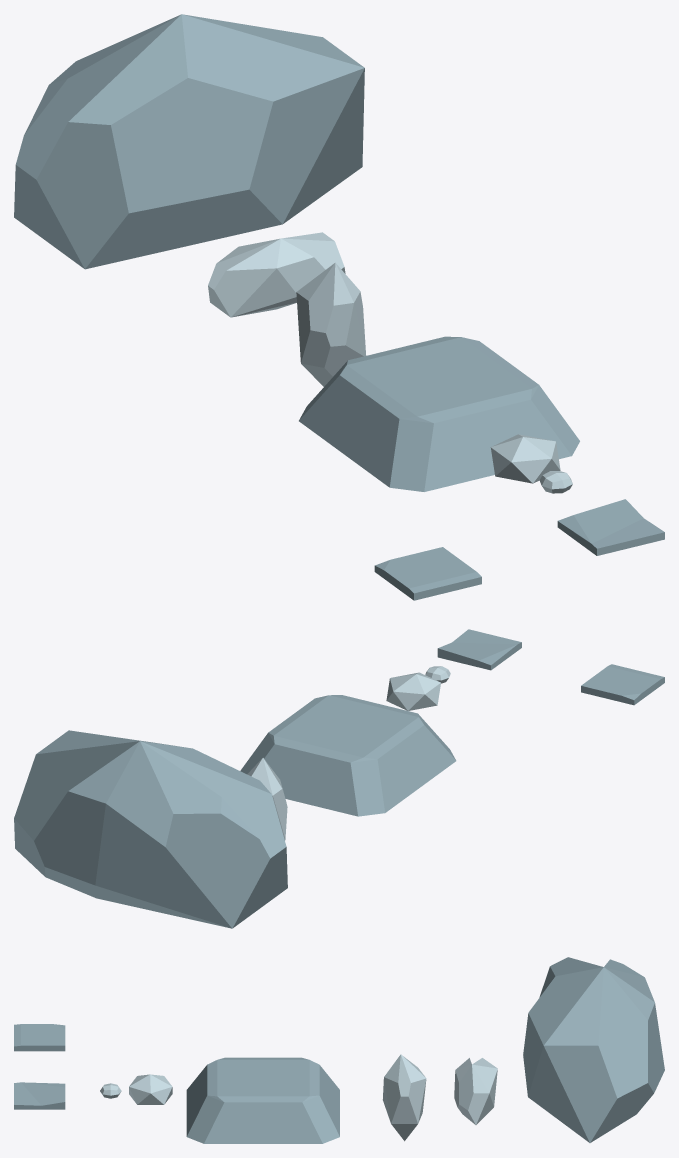
Rendered from rocks.fbx.
3 views of the same model, one above another, from view 1: azimuth 30°, elevation 25°; view 2: azimuth 150°, elevation 25°; view 3: azimuth 270°, elevation 25° (orthographic). The views are drawn at different scales.
Parts seen in each view (by area): view 1: Icosphere.003, Cube.001, Icosphere.002, Icosphere.001, Cube.004, Cube.003, Icosphere; view 2: Icosphere.003, Cube.001, Cube.003, Cube.004, Icosphere, Icosphere.001; view 3: Icosphere.003, Cube.001, Icosphere.001, Icosphere.002, Cube.003, Cube.004, Icosphere.
Boxes of the visible parts, x1=… form: Icosphere.003: x1=14, y1=14, x2=364, y2=269; Cube.001: x1=299, y1=336, x2=579, y2=491; Icosphere.002: x1=208, y1=232, x2=345, y2=317; Icosphere.001: x1=296, y1=262, x2=366, y2=386; Cube.004: x1=557, y1=499, x2=664, y2=555; Cube.003: x1=374, y1=547, x2=481, y2=600; Icosphere: x1=490, y1=434, x2=560, y2=483; Icosphere.003: x1=14, y1=730, x2=287, y2=928; Cube.001: x1=240, y1=695, x2=456, y2=816; Cube.003: x1=581, y1=664, x2=664, y2=705; Cube.004: x1=437, y1=629, x2=521, y2=670; Icosphere: x1=386, y1=672, x2=440, y2=710; Icosphere.001: x1=247, y1=758, x2=287, y2=839; Icosphere.003: x1=523, y1=957, x2=664, y2=1142; Cube.001: x1=186, y1=1057, x2=339, y2=1143; Icosphere.001: x1=382, y1=1054, x2=426, y2=1141; Icosphere.002: x1=454, y1=1058, x2=497, y2=1124; Cube.003: x1=14, y1=1024, x2=65, y2=1051; Cube.004: x1=14, y1=1082, x2=65, y2=1109; Icosphere: x1=129, y1=1074, x2=172, y2=1104.
Size of the model in its own units: 1144 by 753 by 2535.
